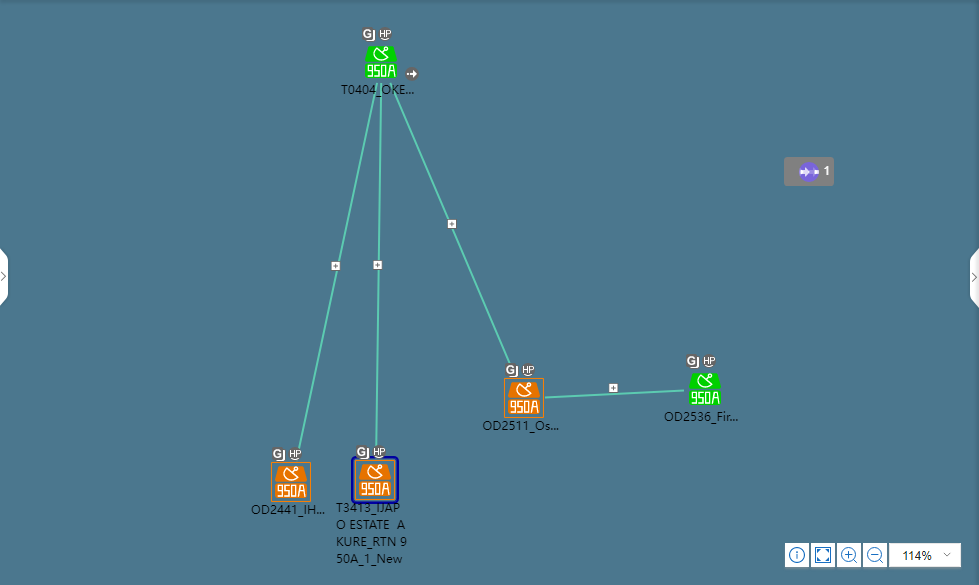Link_Blue: (389, 81, 516, 367), (297, 81, 378, 445), (548, 387, 682, 404), (376, 81, 387, 270)
RTN_Green: (688, 375, 724, 410), (364, 45, 399, 78)
RTN_Orange: (352, 461, 393, 502), (272, 467, 314, 502), (505, 381, 546, 415)
